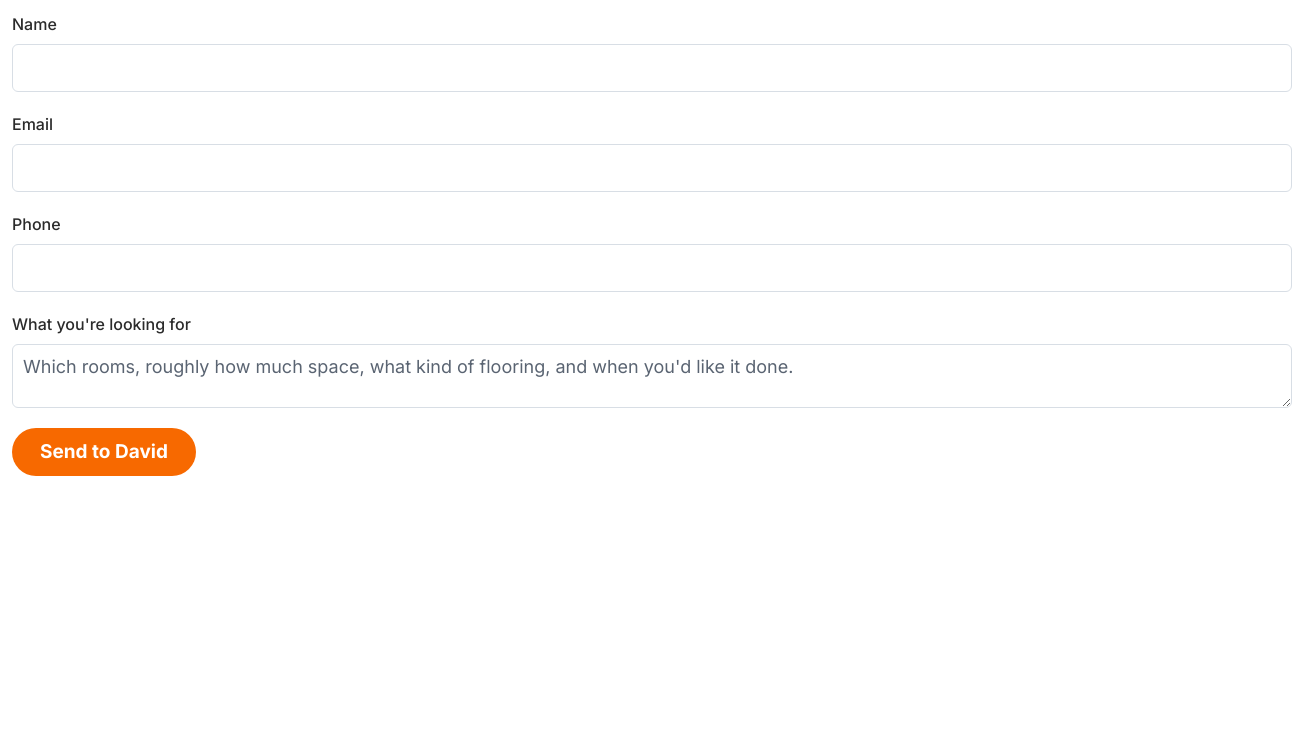
Scenario: LeadForm › shows a retry message on failure and keeps the form
Type "Pat Smith" into the field labelled "Name" at (652, 68), box top-left (12, 44), bottom-right (1292, 92)
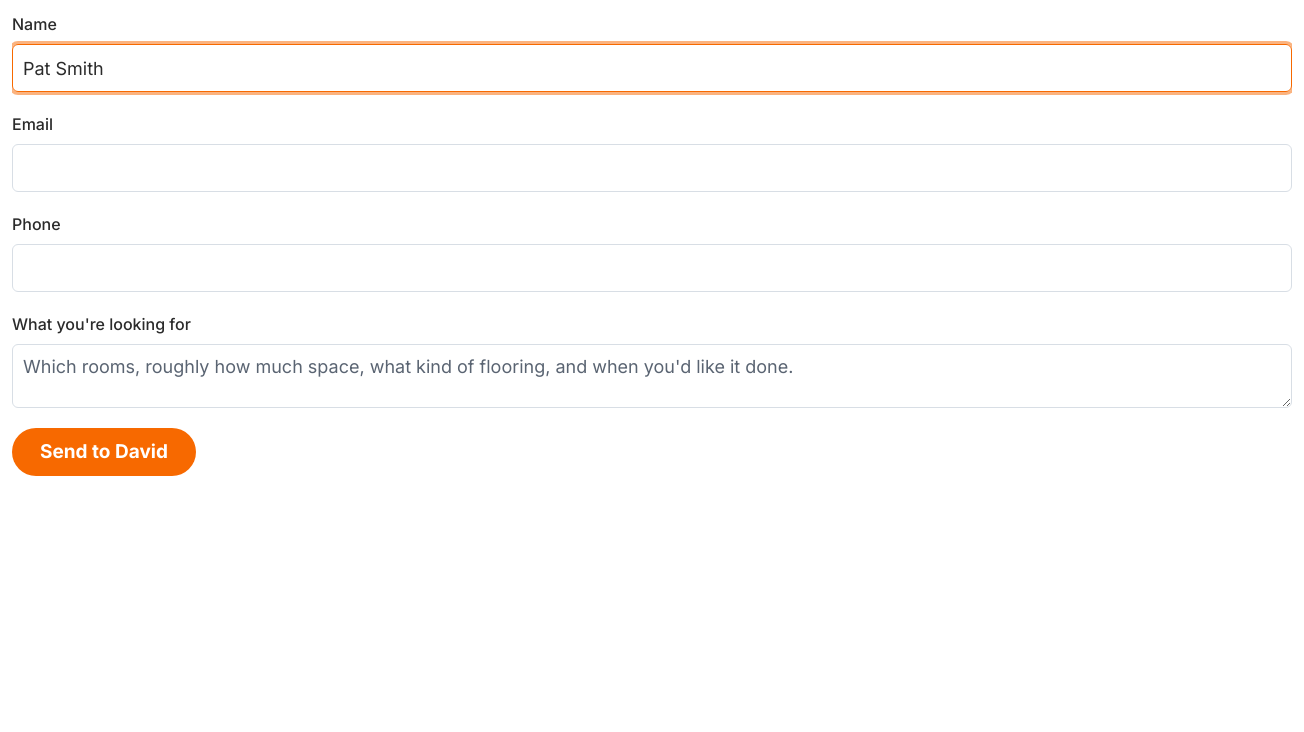
Type "pat@example.com" into the field labelled "Email" at (652, 168), box top-left (12, 144), bottom-right (1292, 192)
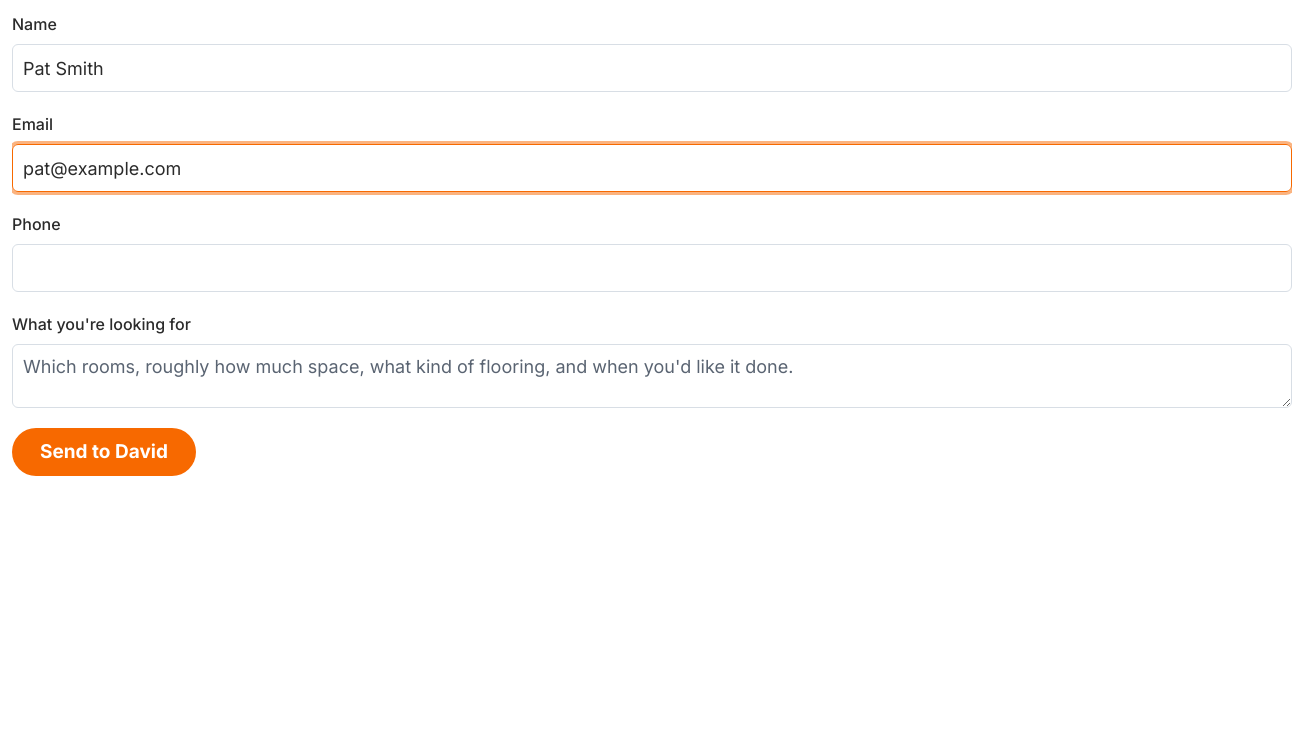
Type "704-555-0100" into the field labelled "Phone" at (652, 268), box top-left (12, 244), bottom-right (1292, 292)
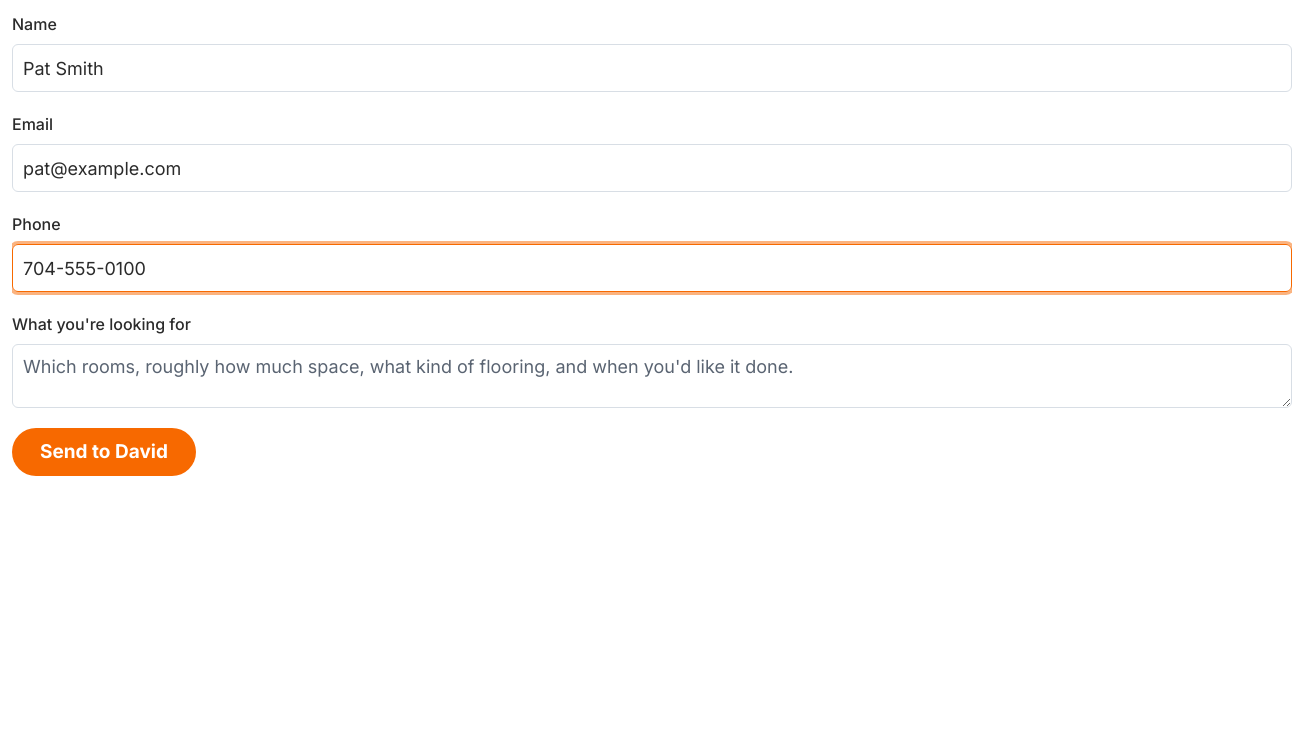
Type "Two bedrooms, carpet." into the text box labelled "What you're looking for" at (652, 376), box top-left (12, 344), bottom-right (1292, 408)
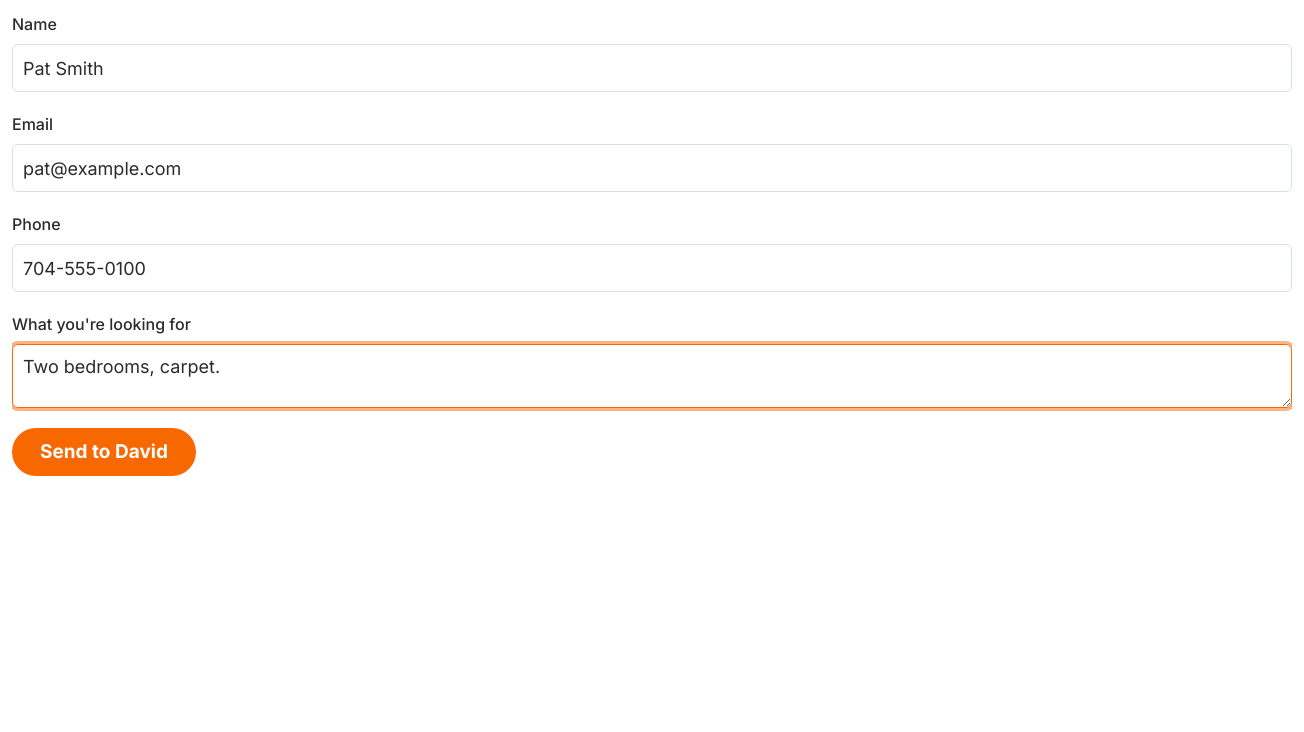
Click the button "Send to David" at (104, 452), box top-left (12, 428), bottom-right (196, 476)
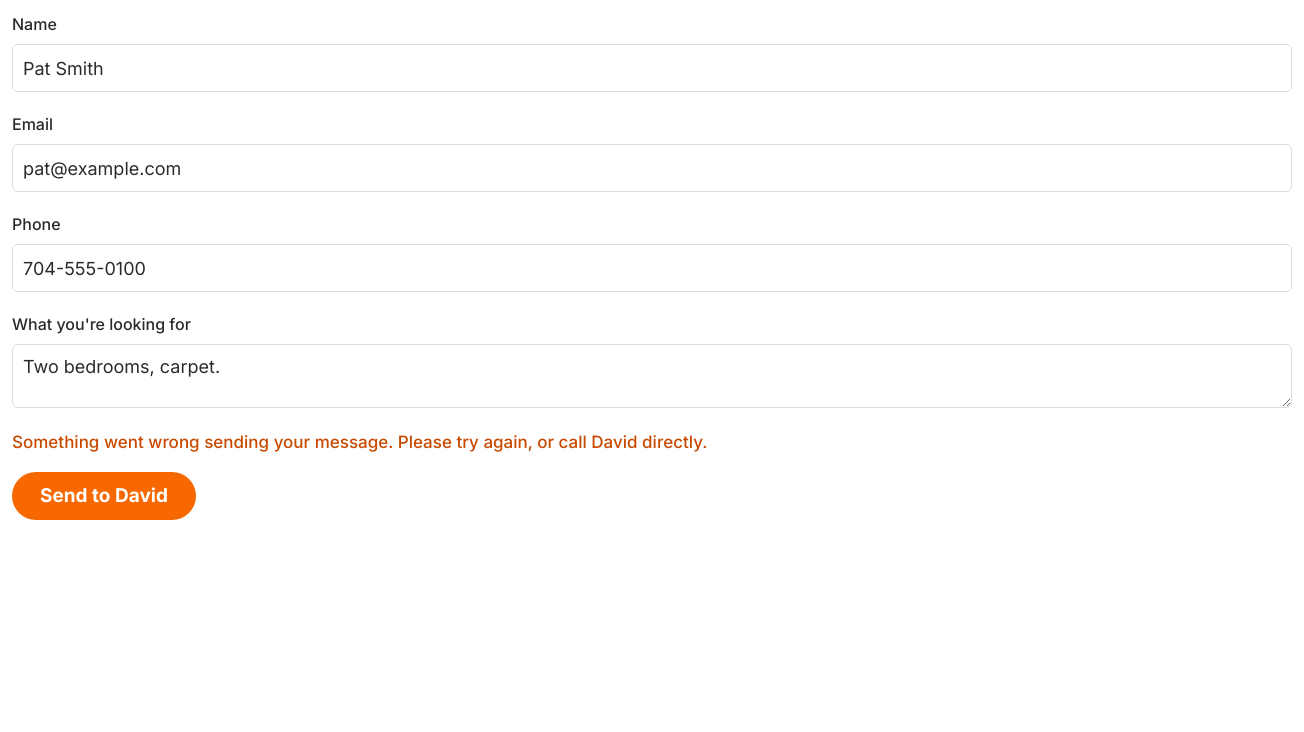
Expected: the button "Send to David" is enabled, top-left (12, 472), bottom-right (196, 520)
Expected: the message shows "Please try again", top-left (12, 432), bottom-right (707, 452)
